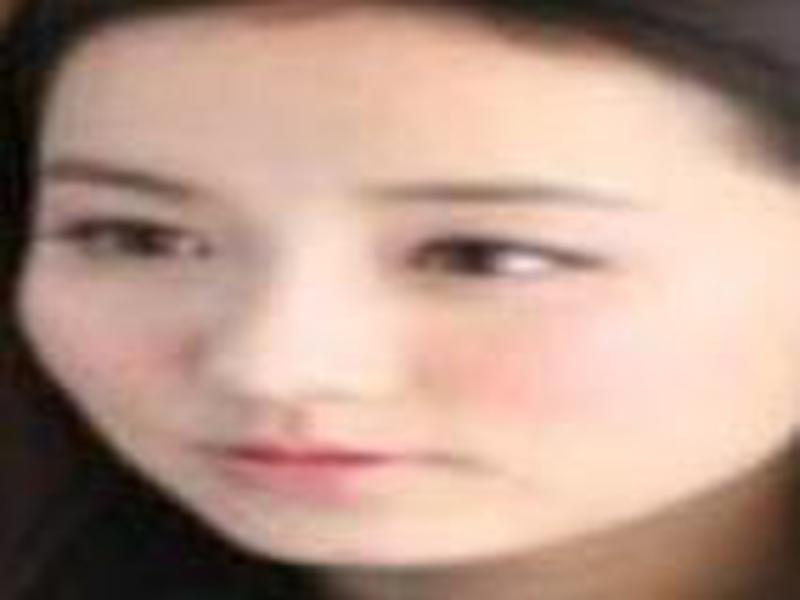without_mask: (16, 38, 746, 567)
